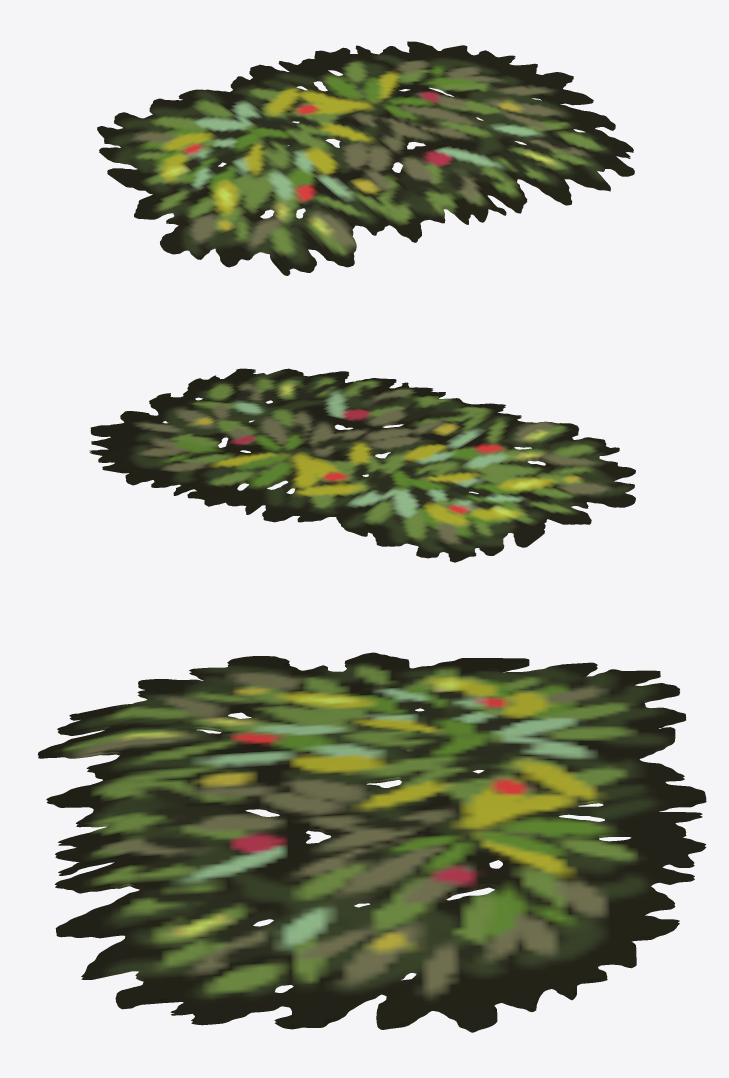
The model's file is foriage05_ds.fbx.
The picture shows the model from 3 angles, top to bottom: view 1: azimuth 30°, elevation 25°; view 2: azimuth 150°, elevation 25°; view 3: azimuth 270°, elevation 25°; orthographic projection. The views are drawn at different scales.
Visible parts, largest first — view 1: foriage05_ds; view 2: foriage05_ds; view 3: foriage05_ds.
Boxes of the visible parts, x1,y1,x2,y2 form: foriage05_ds: (97, 41, 634, 275); foriage05_ds: (89, 368, 635, 562); foriage05_ds: (38, 652, 706, 1032).
Bounding box in the file's own units: 2.63 × 0.2103 × 1.95.
